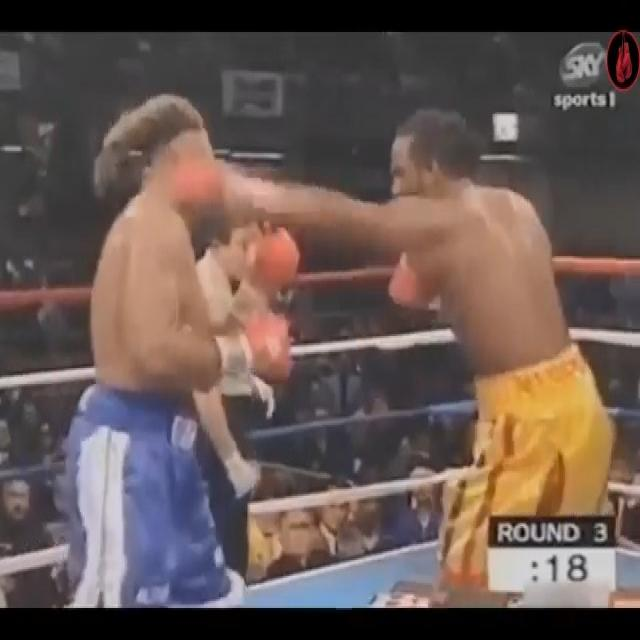Jab: (137, 114, 534, 388)
